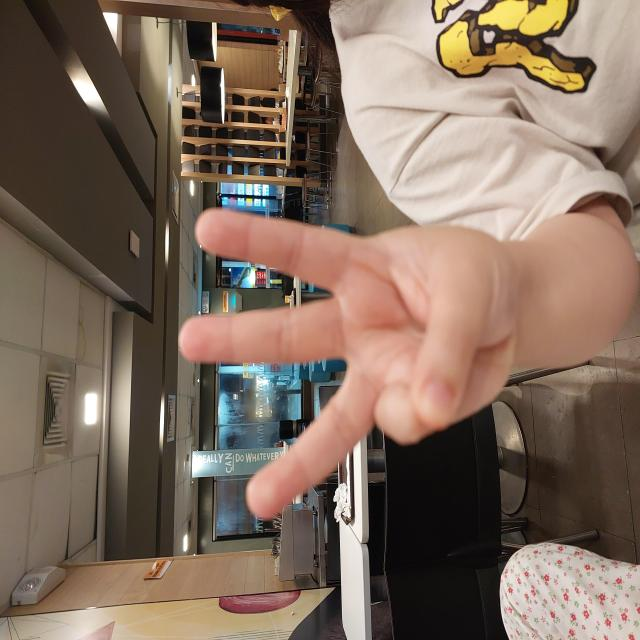W: (117, 176, 438, 518)
